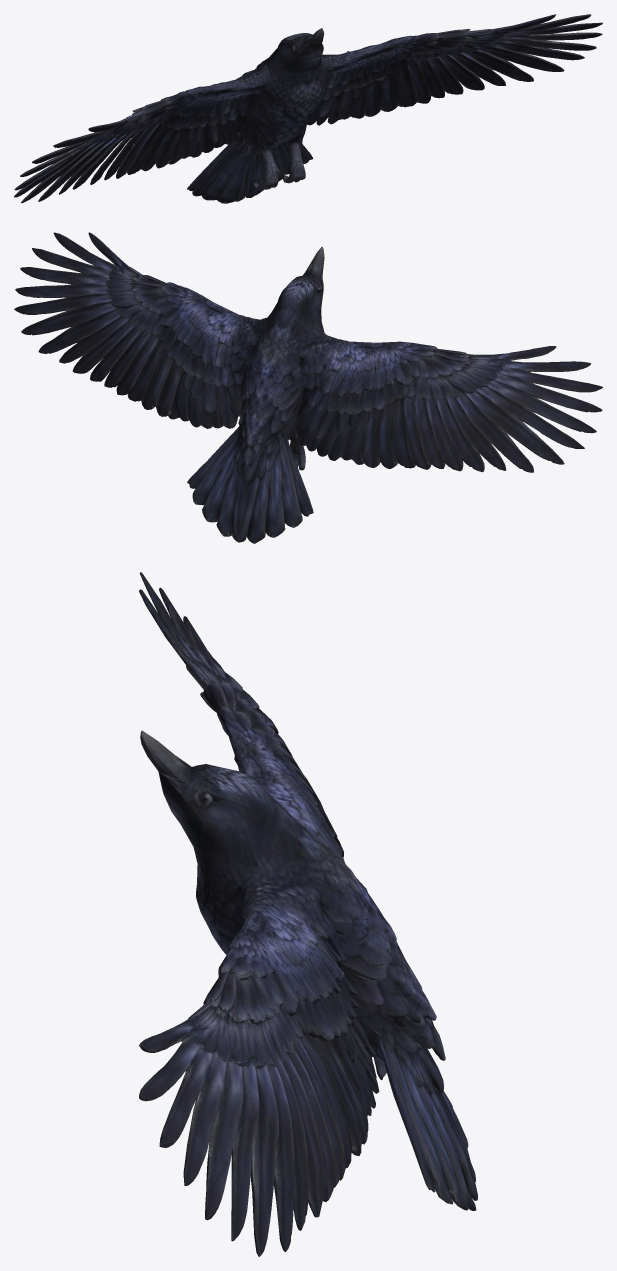
The model's file is raven.glb.
3 views of the same model, one above another, from view 1: azimuth 30°, elevation 25°; view 2: azimuth 150°, elevation 25°; view 3: azimuth 270°, elevation 25° (orthographic). The views are drawn at different scales.
Visible parts, largest first — view 1: output_unwrapped; view 2: output_unwrapped; view 3: output_unwrapped.
Boxes of the visible parts, x1,y1,x2,y2 form: output_unwrapped: (14, 14, 602, 203); output_unwrapped: (14, 232, 602, 543); output_unwrapped: (139, 572, 477, 1256).
Size of the model in its own units: 1.9 by 0.7316 by 0.4793.
1 material, 1 textured.
